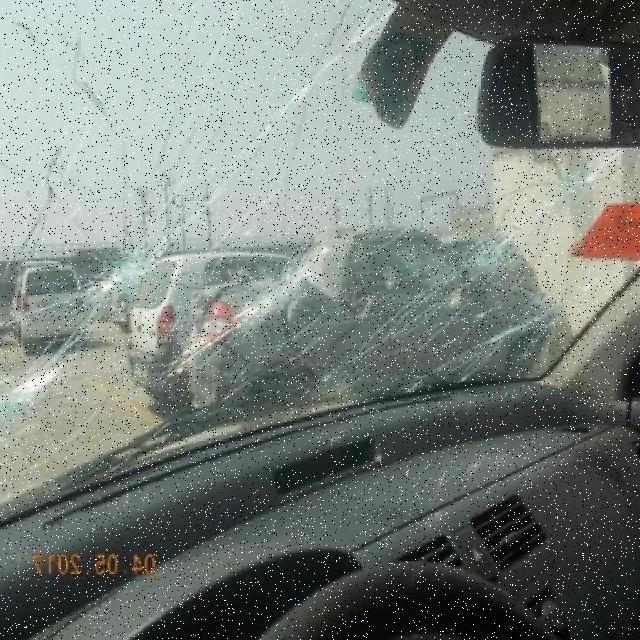damage: (150, 0, 400, 258), (85, 178, 189, 335), (446, 183, 559, 307), (229, 234, 320, 341), (3, 341, 83, 434), (563, 156, 602, 199)
